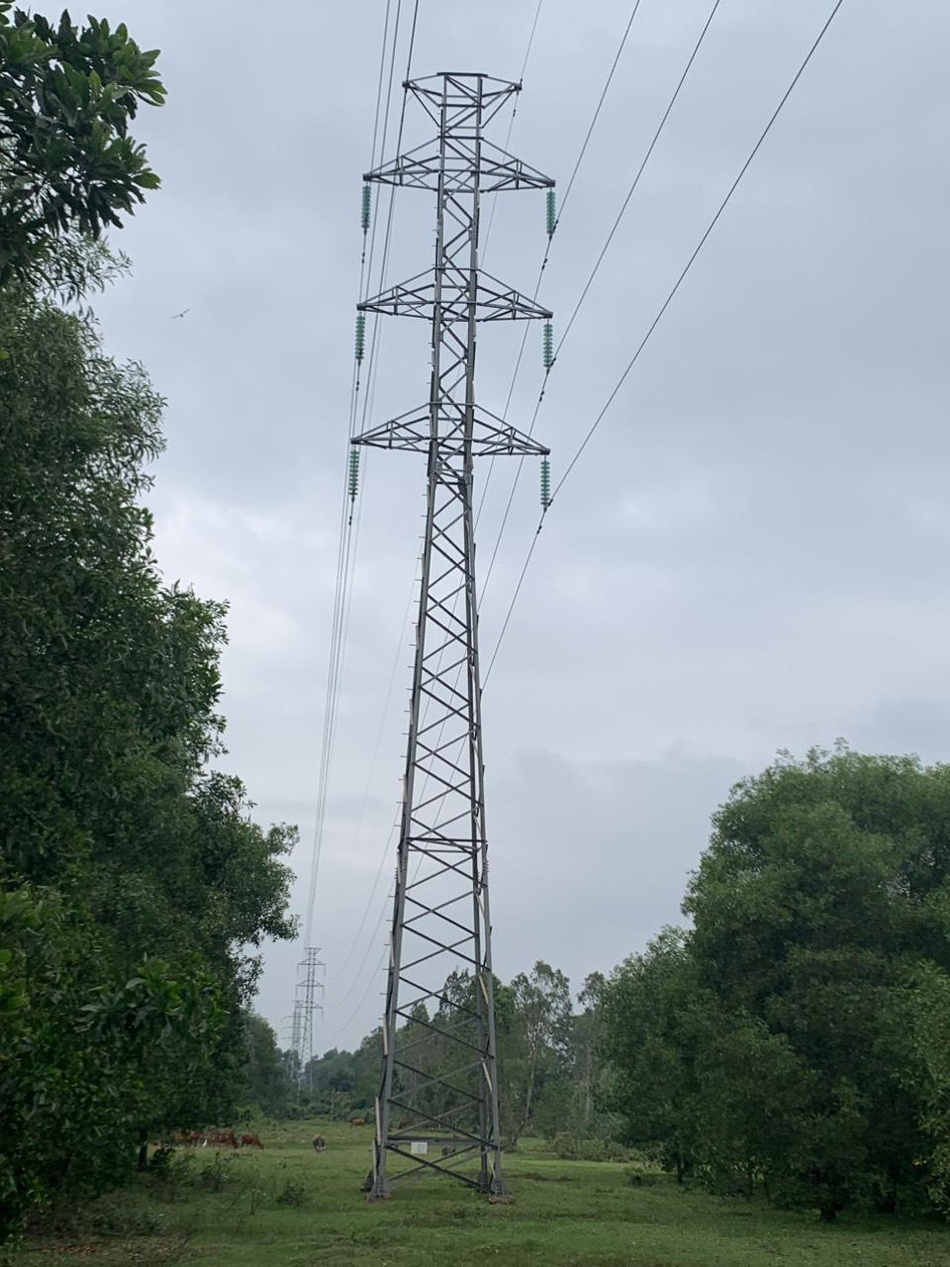tower: (340, 57, 571, 1214)
